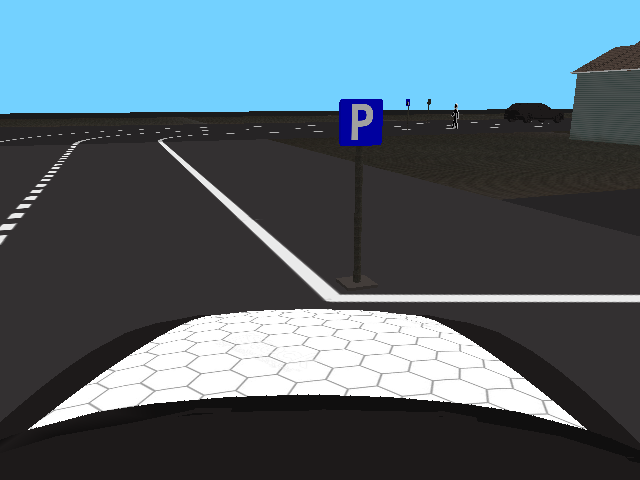parking: (338, 98, 384, 147)
